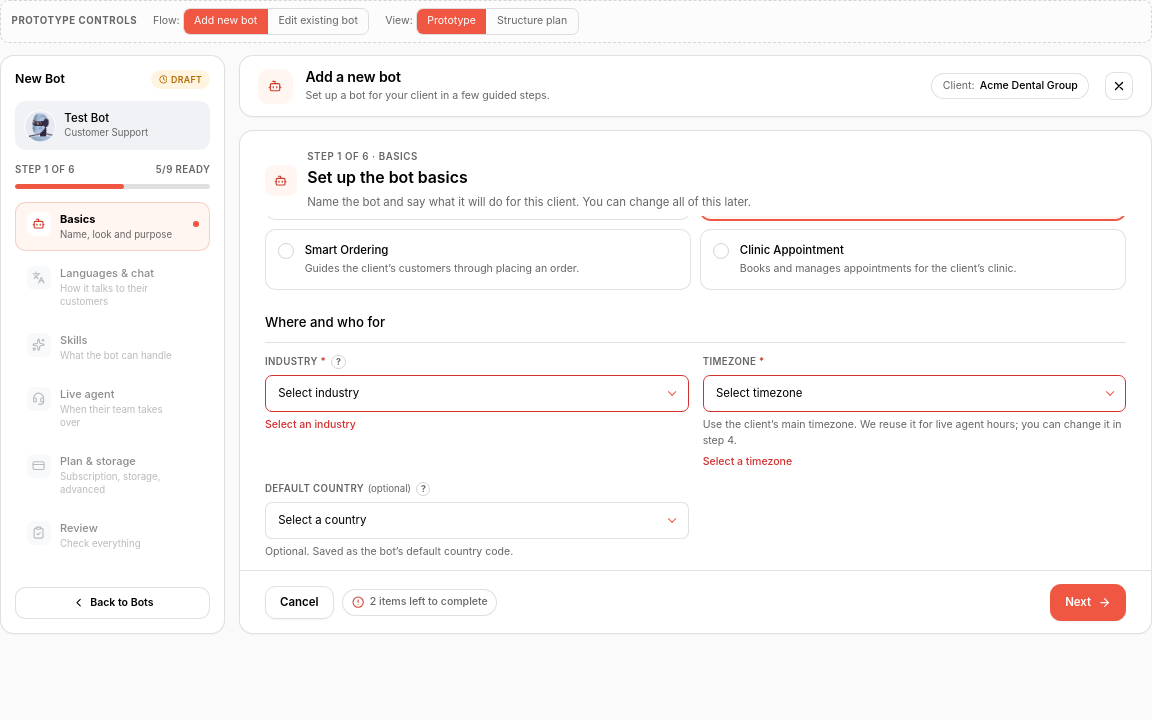
bot setup wizard › counts what is left on a step and clears once it is complete
Earlier steps of the test are not shown.
(page scrolled)
Select "Retail" in the dropdown with id "f-industry": (477, 393) left=265, top=375, right=689, bottom=412
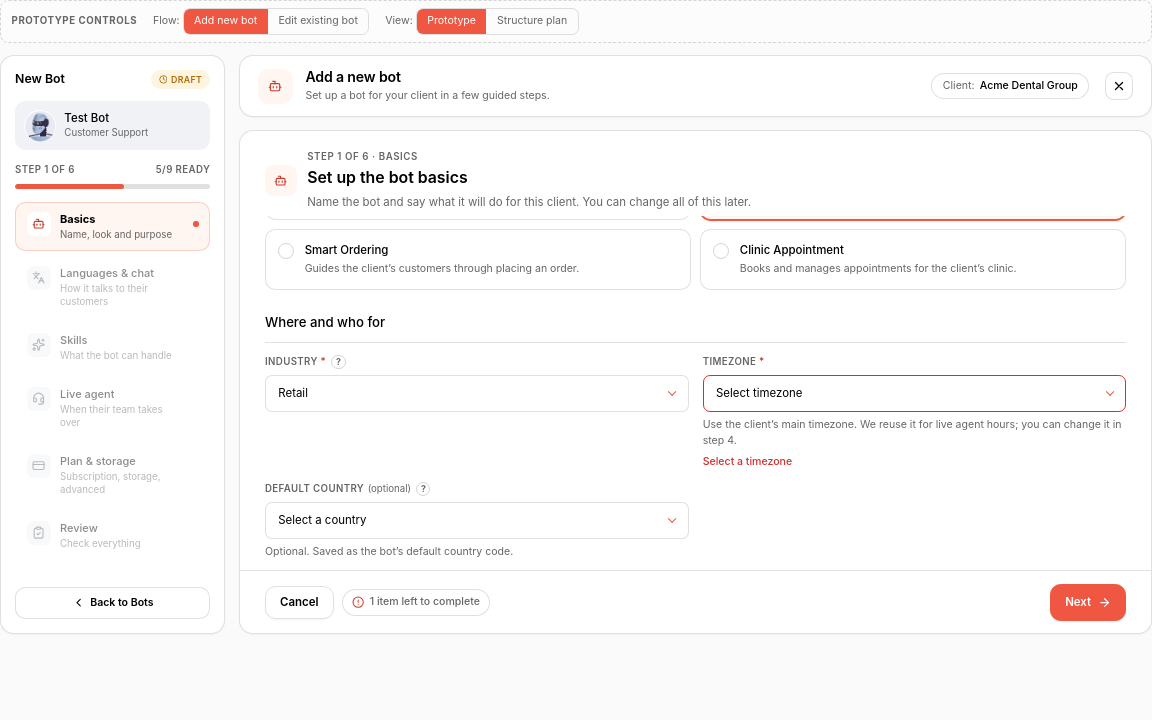
Select "India Standard Time (UTC+05:30)" in the dropdown with id "f-timezone": (915, 393) left=703, top=375, right=1126, bottom=412
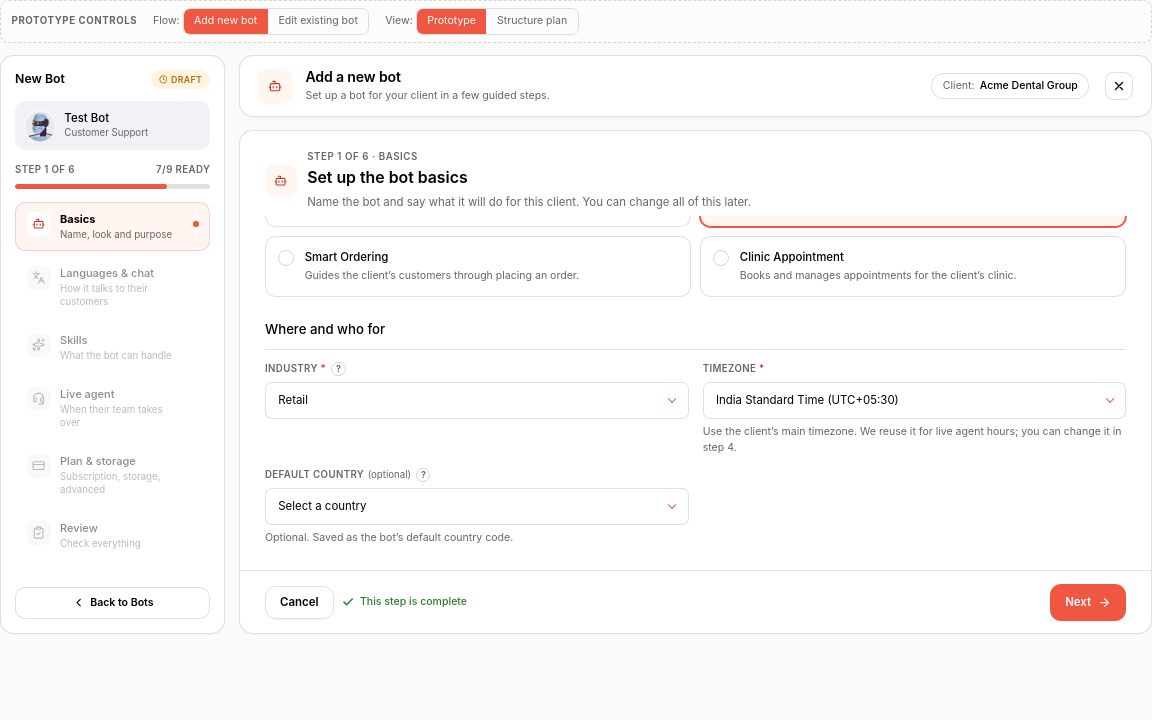
Now the button with class "leftbtn" is gone
Now the element with class "leftok" reads "This step is complete", box left=360, top=595, right=467, bottom=608
